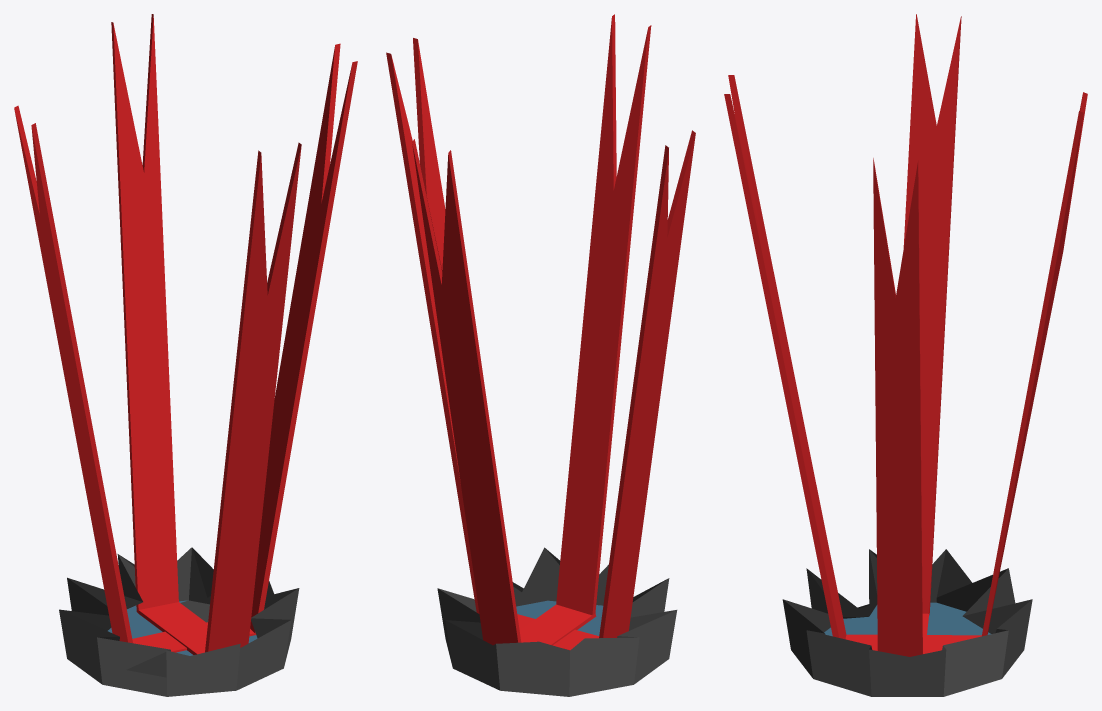
File: picha.glb
3 renders of one model, left to right at view 1: azimuth 30°, elevation 25°; view 2: azimuth 150°, elevation 25°; view 3: azimuth 270°, elevation 25°, orthographic.
Visible parts, largest first — view 1: Cylinder; view 2: Cylinder; view 3: Cylinder.
Boxes of the visible parts, x1,y1,x2,y2 form: Cylinder: (14, 14, 357, 696); Cylinder: (386, 14, 695, 696); Cylinder: (724, 14, 1087, 696).
Size of the model in its own units: 0.1151 by 0.1997 by 0.115.
